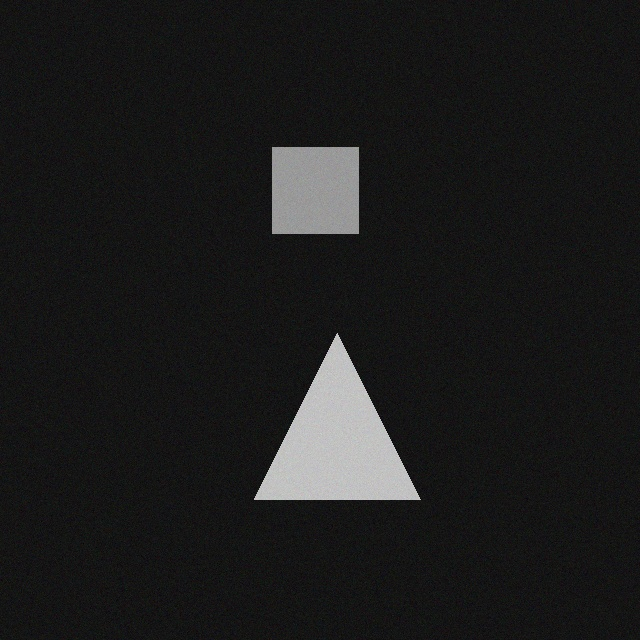square: (273, 134, 359, 220)
triangle: (255, 320, 421, 486)
